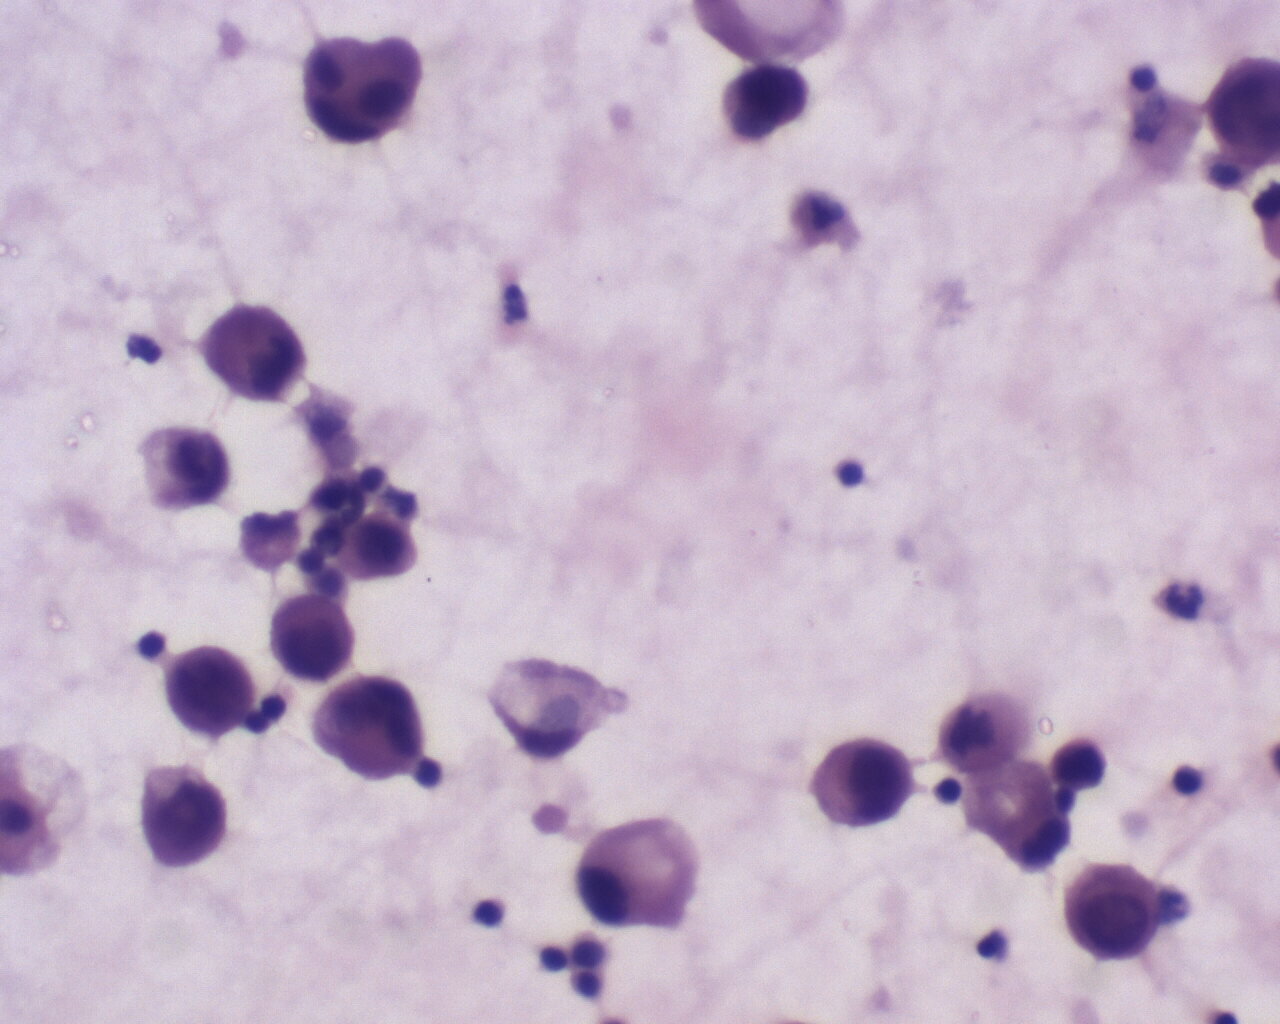ab: (315, 672, 426, 788), (1068, 856, 1164, 965), (810, 735, 916, 833), (138, 767, 230, 877), (163, 647, 254, 739), (720, 63, 814, 145), (267, 594, 356, 679), (1050, 736, 1110, 792)
histo: (575, 816, 704, 937)
lymph: (1166, 757, 1209, 802), (830, 449, 870, 495), (462, 893, 503, 934)
